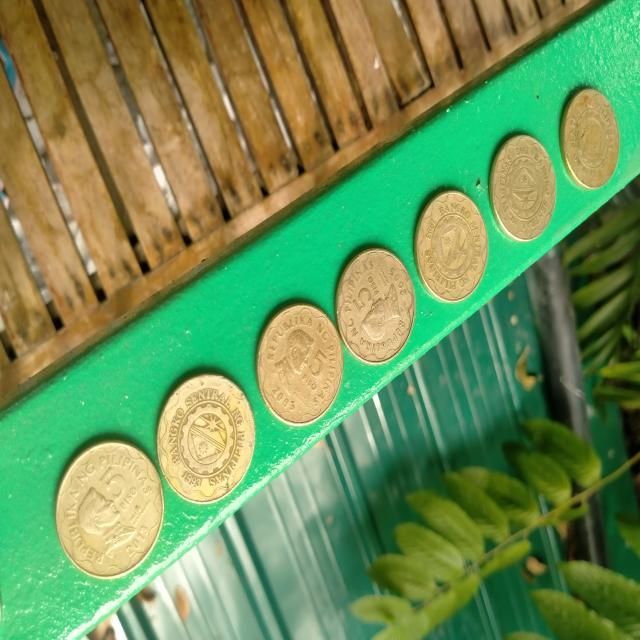5_Old_Back: (168, 390, 246, 495), (426, 212, 484, 294), (496, 152, 552, 232), (565, 98, 616, 184)
5_Old_Front: (59, 452, 160, 561), (274, 309, 339, 418), (349, 262, 405, 348)
